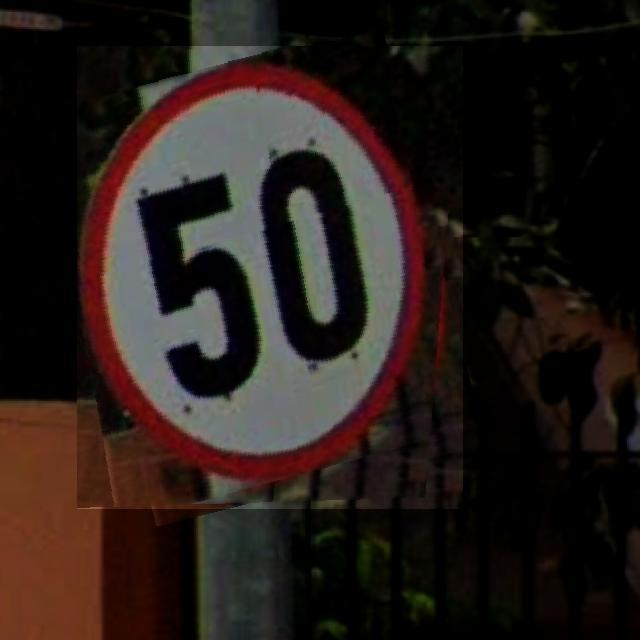50 kph: (77, 46, 463, 509)
